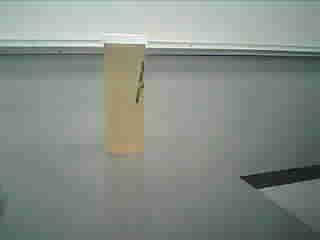Bottle A: (104, 35, 144, 154)
